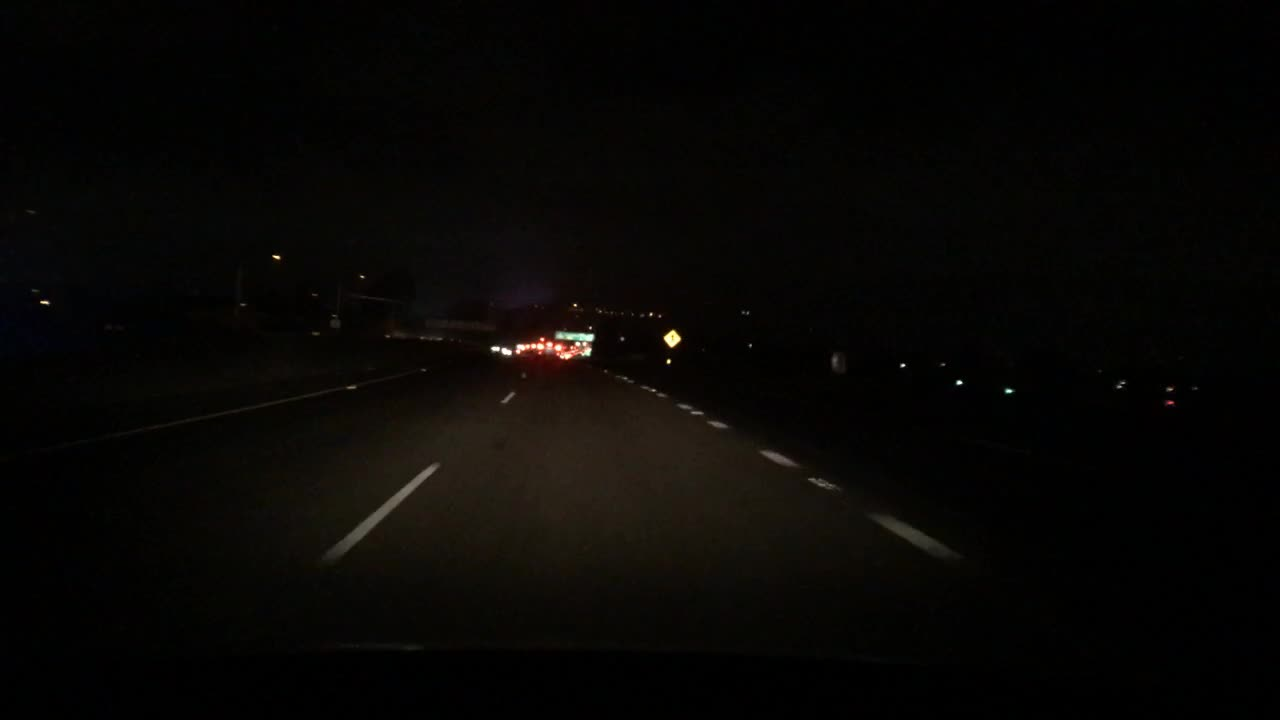car: (514, 341, 527, 356), (557, 349, 571, 361), (552, 339, 562, 354), (525, 341, 539, 351), (544, 339, 554, 351), (536, 341, 545, 351)
traffic sign: (661, 326, 681, 348), (554, 331, 593, 341), (326, 316, 340, 330)
